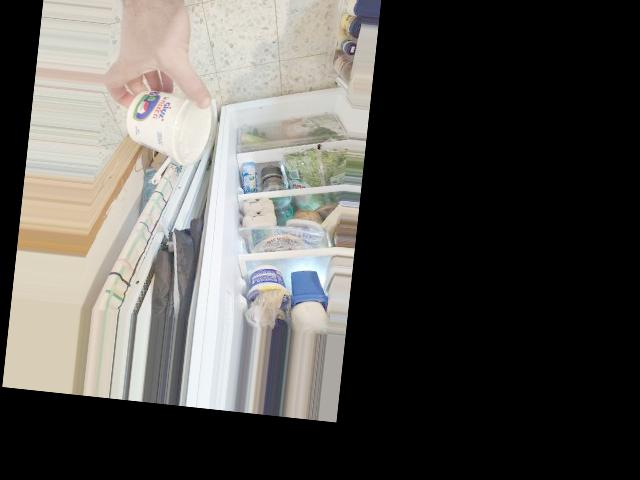cotage: (119, 80, 213, 165)
